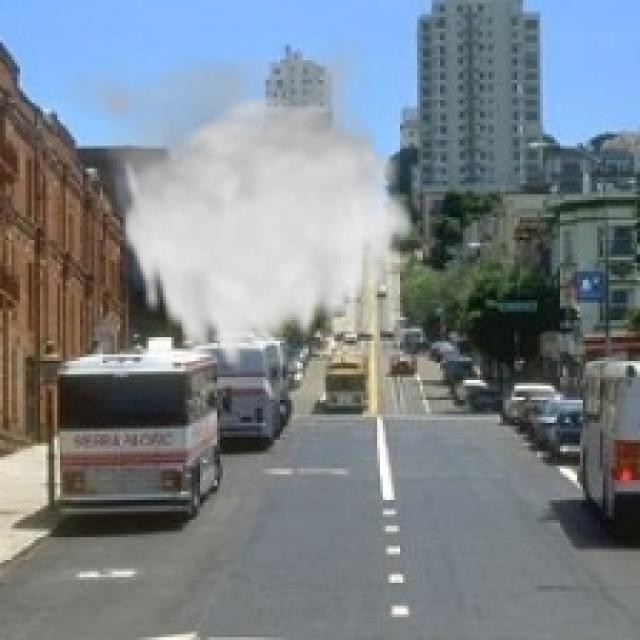Smoke: (57, 29, 417, 378)
